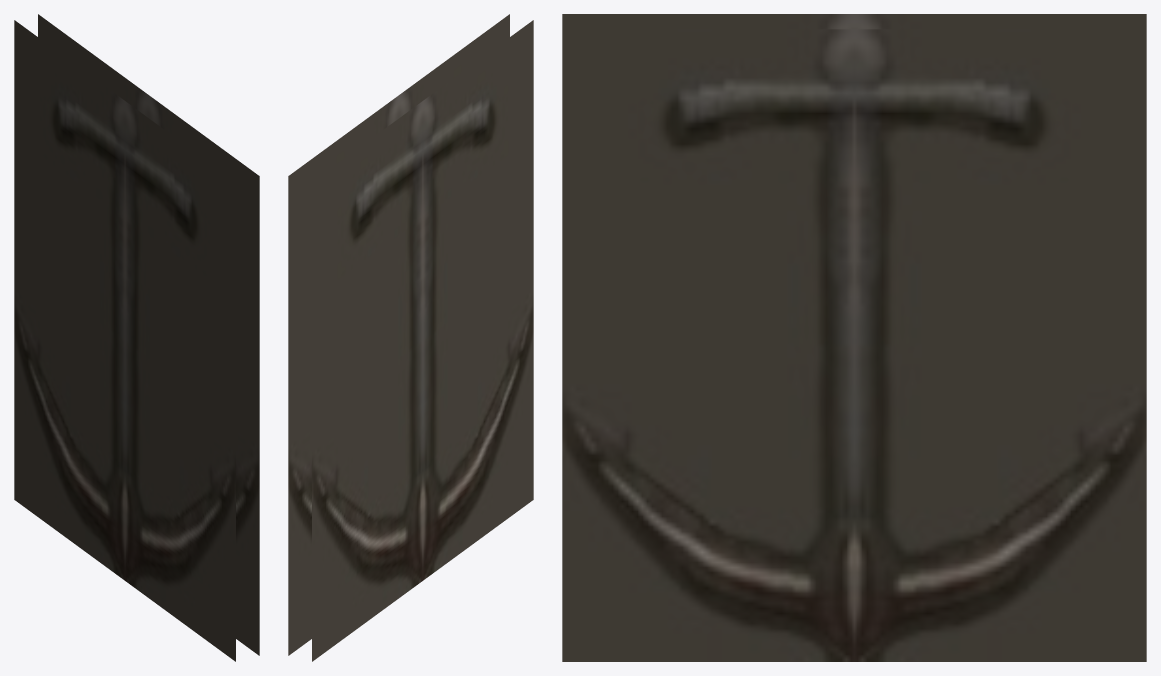
File: sign1_eng_a_icon_shipwright.fbx
The picture shows the model from 3 angles, left to right: view 1: azimuth 30°, elevation 25°; view 2: azimuth 150°, elevation 25°; view 3: azimuth 270°, elevation 25°; orthographic projection. The views are drawn at different scales.
Parts seen in each view (by area): view 1: icons; view 2: icons; view 3: icons.
Part boxes in pixels (<box>): icons: <box>14,14,259,661</box>; icons: <box>288,14,533,661</box>; icons: <box>562,14,1146,661</box>.
Bounding box in the file's own units: 16.67 × 321 × 269.
1 material, 1 textured.
